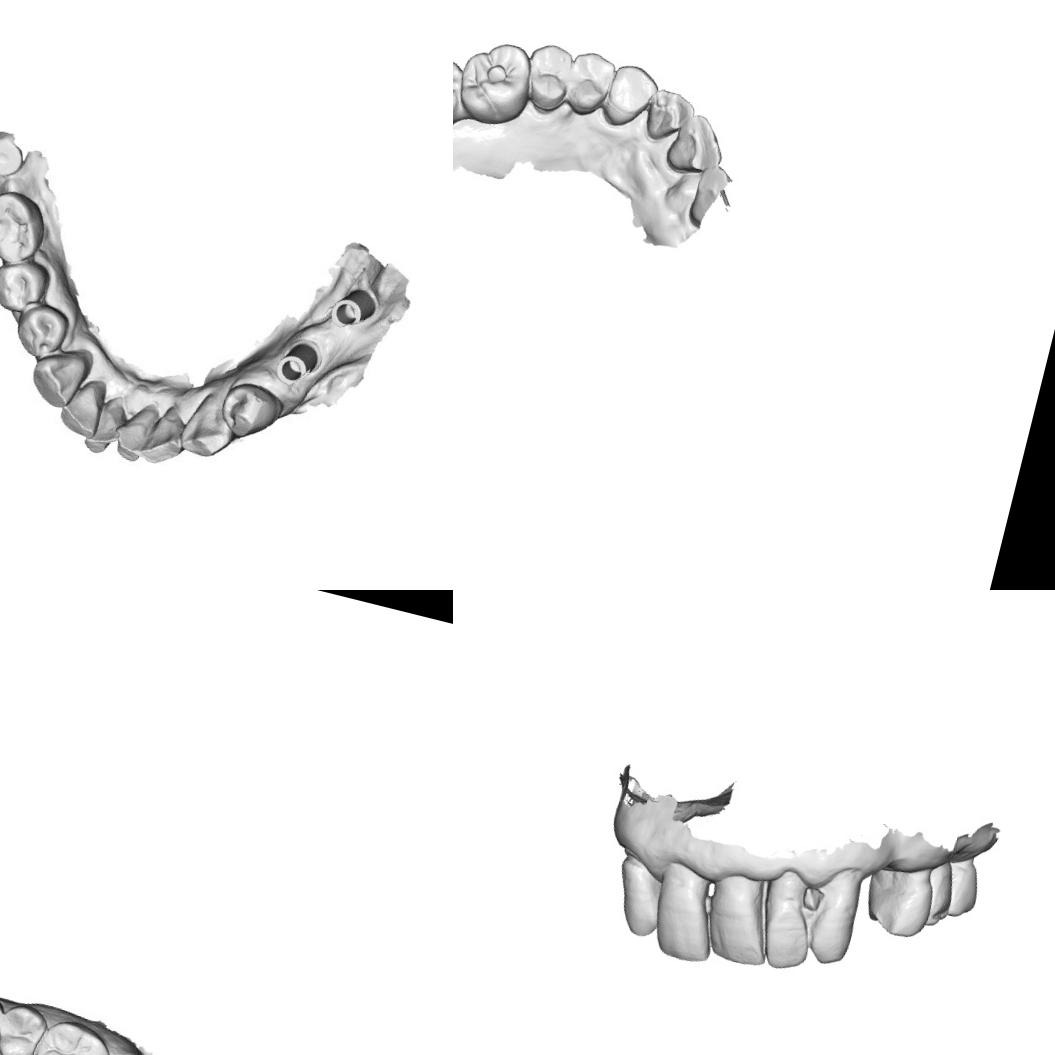canine: (603, 850, 673, 940), (176, 384, 244, 464), (25, 339, 94, 412), (598, 59, 662, 134)
implant: (272, 333, 330, 394), (327, 285, 375, 336), (0, 131, 28, 180)
incisor: (638, 856, 730, 968), (693, 878, 780, 970), (750, 892, 820, 976), (661, 106, 732, 181), (802, 894, 864, 972), (138, 396, 198, 472), (639, 85, 698, 149), (54, 374, 112, 439), (109, 398, 161, 466), (82, 391, 130, 459)
molar: (453, 33, 538, 132), (0, 181, 54, 271), (22, 1013, 119, 1055), (936, 852, 988, 923), (453, 45, 474, 139)
premolar: (857, 860, 939, 944), (213, 374, 283, 442), (517, 38, 576, 116), (559, 47, 618, 122), (10, 300, 68, 362), (914, 854, 960, 931), (0, 995, 57, 1055), (0, 255, 45, 311)
